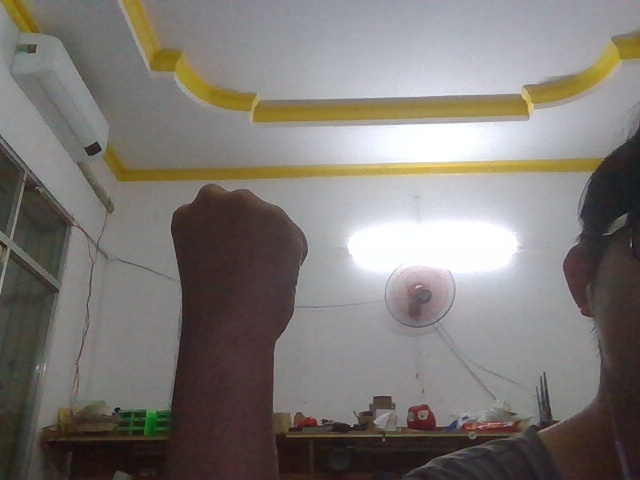fist: (155, 170, 314, 386)
